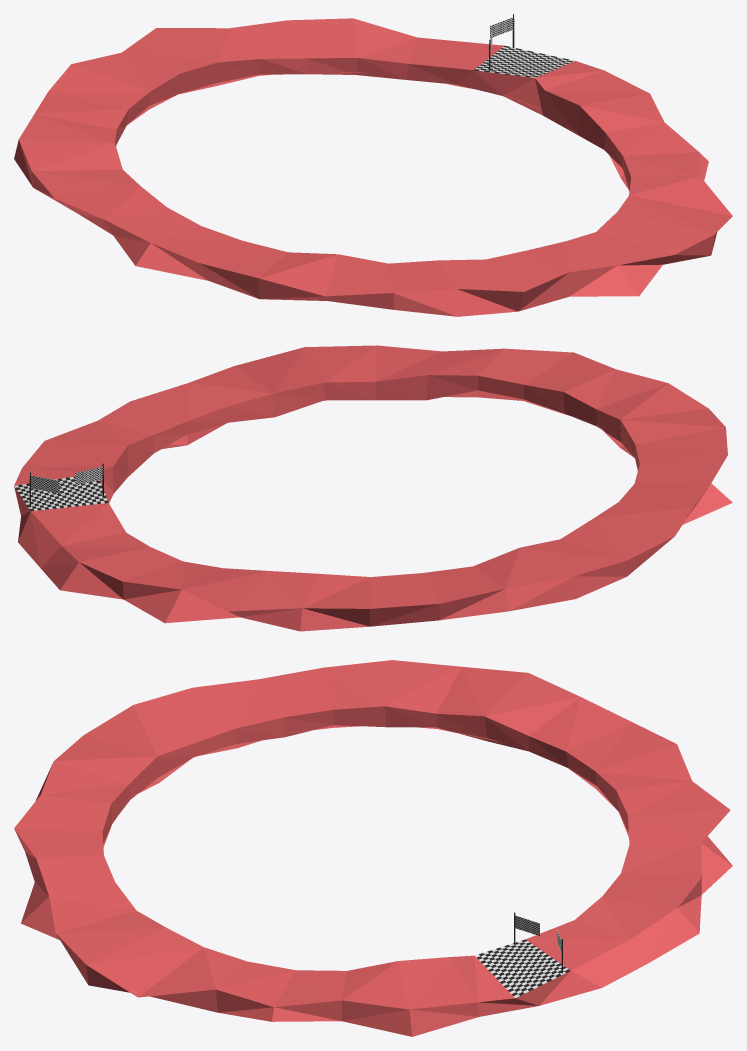
File: newRingThree.fbx
3 views of the same model, one above another, from view 1: azimuth 30°, elevation 25°; view 2: azimuth 150°, elevation 25°; view 3: azimuth 270°, elevation 25° (orthographic). The views are drawn at different scales.
Parts seen in each view (by area): view 1: Cylinder.005; view 2: Cylinder.005; view 3: Cylinder.005.
Part boxes in pixels (left/top/right/bottom): Cylinder.005: left=14, top=14, right=732, bottom=316; Cylinder.005: left=14, top=345, right=732, bottom=631; Cylinder.005: left=14, top=660, right=732, bottom=1036.
Size of the model in its own units: 2720 by 322 by 2719.
